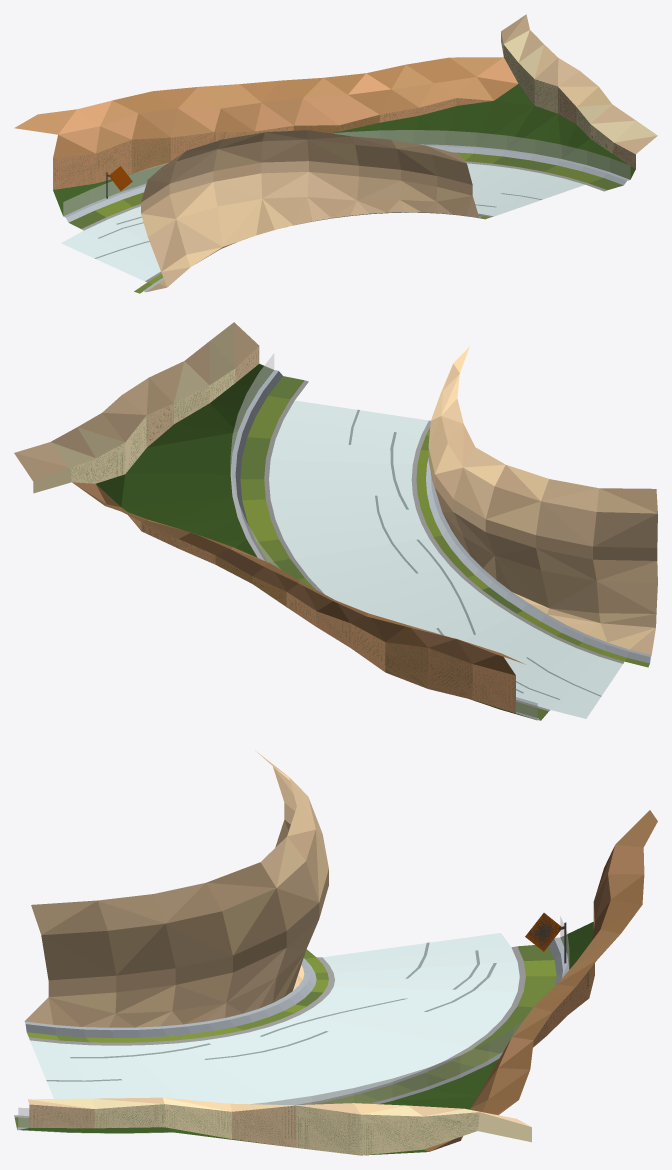
3 renders of one model, top to bottom at view 1: azimuth 30°, elevation 25°; view 2: azimuth 150°, elevation 25°; view 3: azimuth 270°, elevation 25°, orthographic. The views are drawn at different scales.
Visible parts, largest first — view 1: O157E0; view 2: O157E0; view 3: O157E0.
Boxes of the visible parts, x1,y1,x2,y2 form: O157E0: (14,14,657,293); O157E0: (14,322,657,720); O157E0: (14,750,657,1155).
Size of the model in its own units: 137 by 40.25 by 105.
